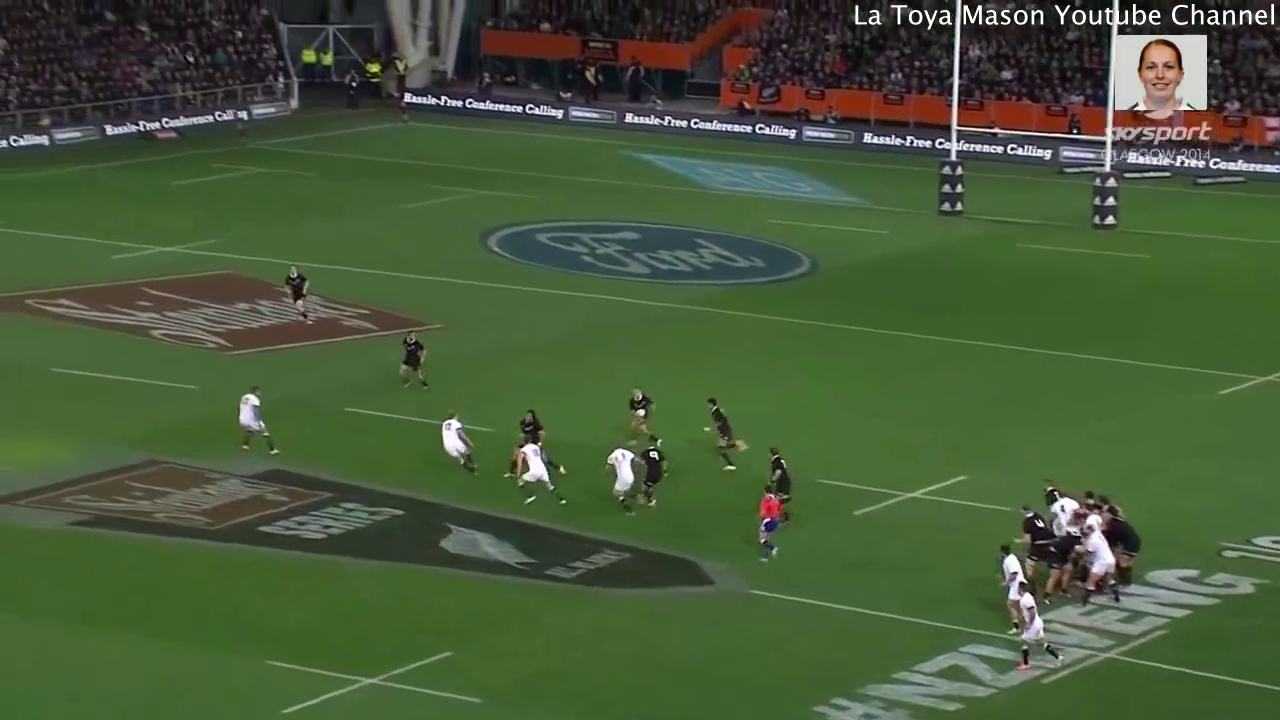10_metre: (257, 644, 490, 720), (815, 472, 1020, 525)
ball: (633, 400, 652, 424)
maul: (1010, 484, 1149, 611)
player: (1012, 580, 1066, 675), (510, 438, 569, 513), (233, 382, 287, 461), (434, 409, 489, 478), (698, 391, 745, 470), (1081, 518, 1121, 606), (597, 441, 642, 516), (632, 437, 672, 516), (275, 261, 318, 327), (393, 329, 437, 392), (620, 383, 664, 443), (1105, 505, 1137, 585), (990, 542, 1020, 623), (1017, 502, 1047, 582), (1042, 532, 1075, 604), (515, 404, 549, 447), (1045, 489, 1071, 528), (1039, 477, 1058, 502)
post: (936, 1, 1123, 232)
